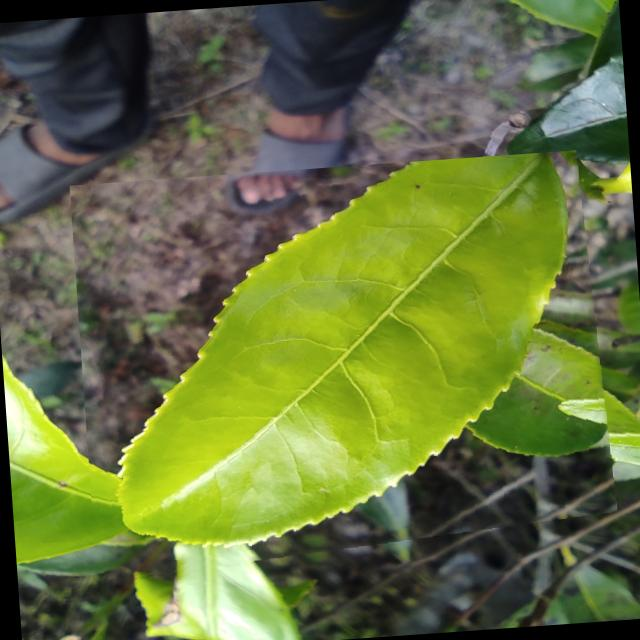Category B(2-4 days): (69, 148, 619, 582)
